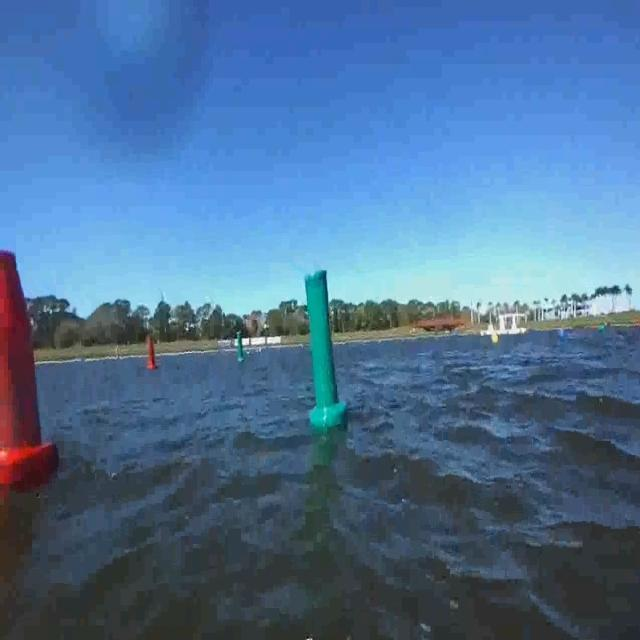blue-buoy: (559, 327, 565, 340)
green-column-buoy: (304, 266, 345, 428), (236, 334, 246, 364)
red-column-buoy: (0, 245, 60, 485), (146, 336, 158, 370)
yellow-buoy: (492, 334, 499, 347)
